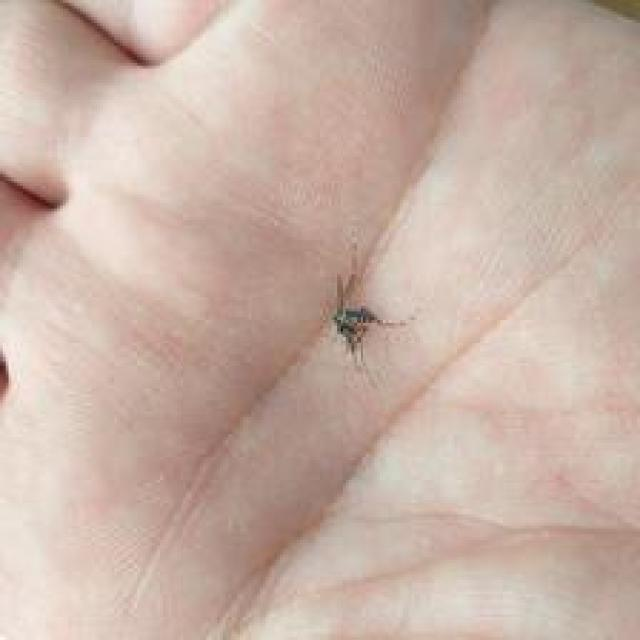Aedes albopictus: (327, 271, 410, 366)
